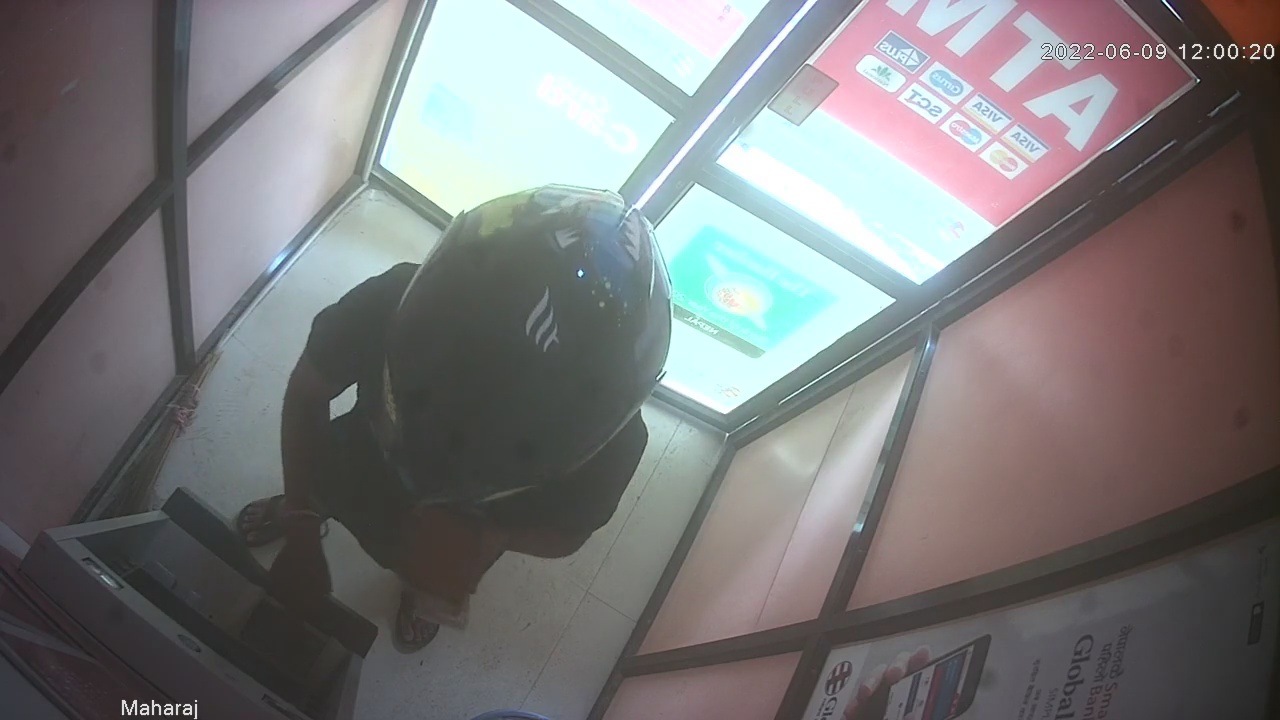helmet: (361, 178, 675, 506)
person: (231, 181, 675, 654)
